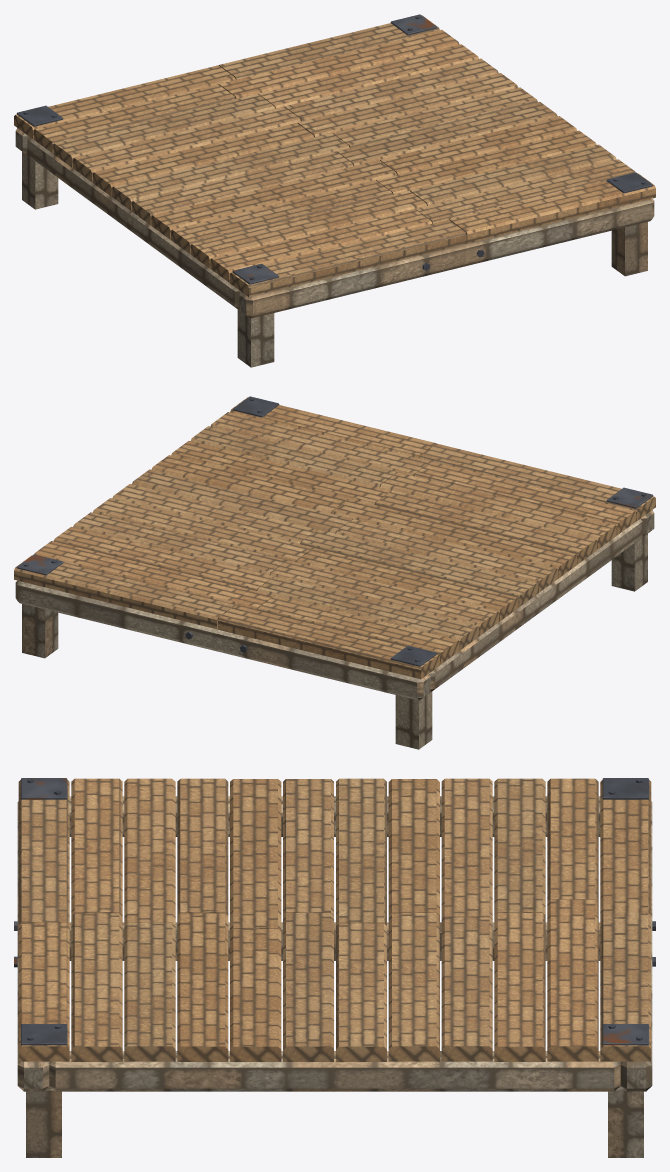
Rendered from makine_platformu_orta.glb.
The picture shows the model from 3 angles, top to bottom: view 1: azimuth 30°, elevation 25°; view 2: azimuth 150°, elevation 25°; view 3: azimuth 270°, elevation 25°; orthographic projection. The views are drawn at different scales.
Visible parts, largest first — view 1: makine_platformu_orta; view 2: makine_platformu_orta; view 3: makine_platformu_orta.
Boxes of the visible parts, x1,y1,x2,y2 form: makine_platformu_orta: (14,14,655,367); makine_platformu_orta: (14,396,655,749); makine_platformu_orta: (14,778,655,1157).
Size of the model in its own units: 6 by 1.24 by 6.07.
Materials: 1 (1 with a texture image).
